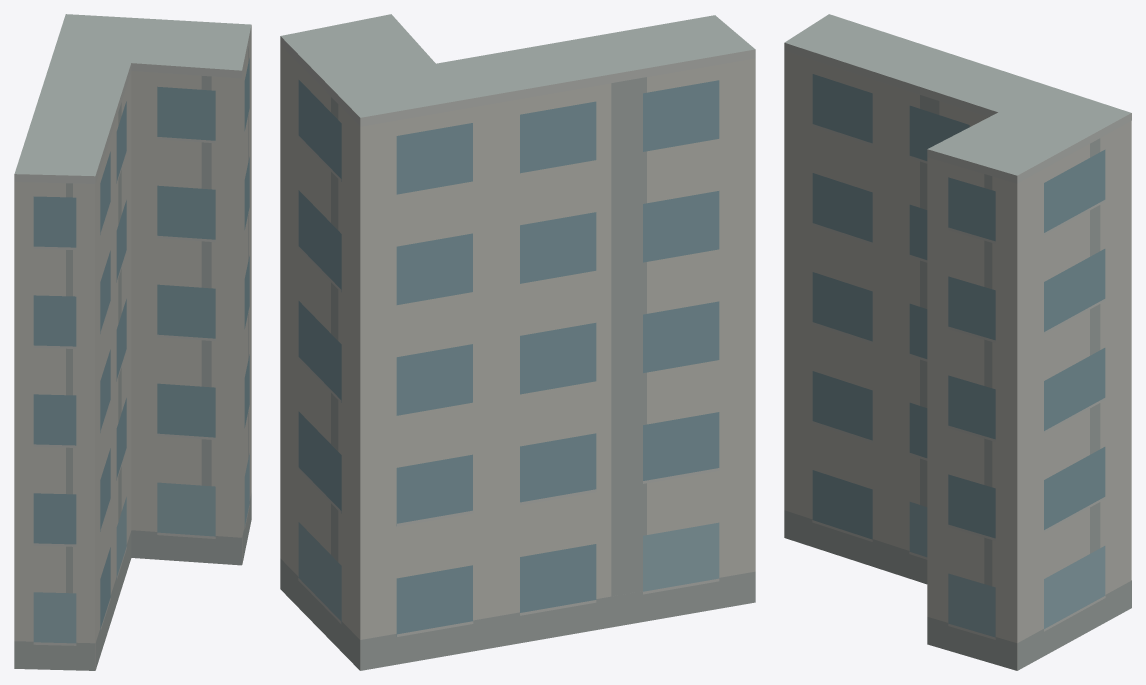
The model's file is survey-upis-32744382.glb.
3 views of the same model, side by side, from view 1: azimuth 30°, elevation 25°; view 2: azimuth 150°, elevation 25°; view 3: azimuth 270°, elevation 25° (orthographic). The views are drawn at different scales.
Visible parts, largest first — view 1: survey-upis-32744382.tmp; view 2: survey-upis-32744382.tmp; view 3: survey-upis-32744382.tmp.
Boxes of the visible parts, <box> form: survey-upis-32744382.tmp: <box>14,14,251,670</box>; survey-upis-32744382.tmp: <box>280,14,755,670</box>; survey-upis-32744382.tmp: <box>784,14,1131,670</box>.
Size of the model in its own units: 10.69 by 15.25 by 9.7.
